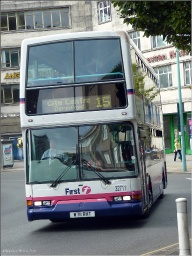bus: (16, 29, 170, 224)
